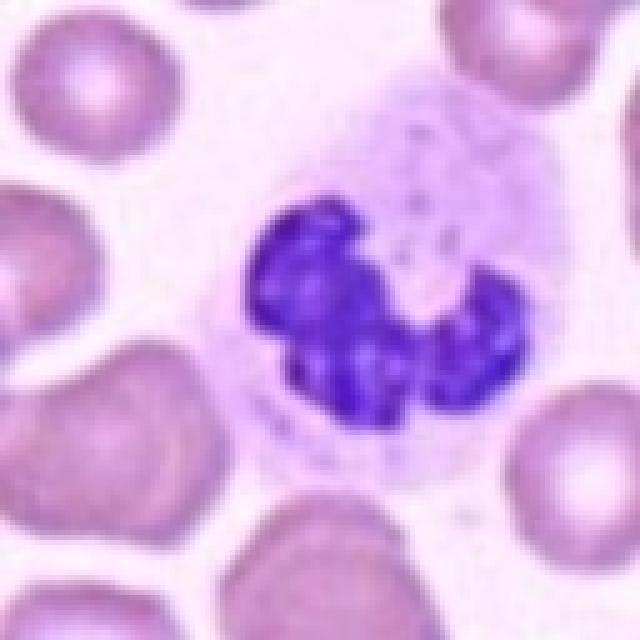neutro: (210, 125, 640, 565)
